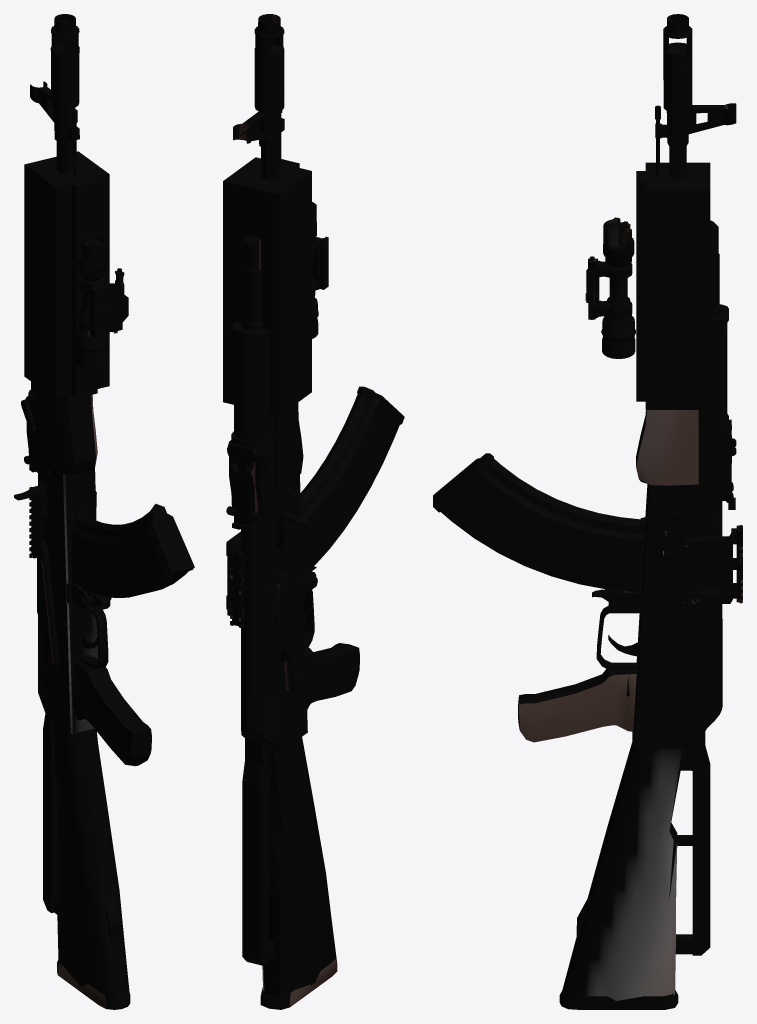
File: AK74__Handguard_AK_Quad__Light_Weapon__Mount_AK_SideRail__Stock_AK_Folding.fbx
The picture shows the model from 3 angles, left to right: view 1: azimuth 30°, elevation 25°; view 2: azimuth 150°, elevation 25°; view 3: azimuth 270°, elevation 25°; orthographic projection. The views are drawn at different scales.
Parts seen in each view (by area): view 1: asset_AK74.001; view 2: asset_AK74.001; view 3: asset_AK74.001.
Part boxes in pixels (x1,y1,x2,y2): asset_AK74.001: (14, 14, 194, 1009); asset_AK74.001: (223, 14, 404, 1009); asset_AK74.001: (433, 14, 742, 1009).
Bounding box in the file's own units: 0.046 × 0.564 × 0.1608.
